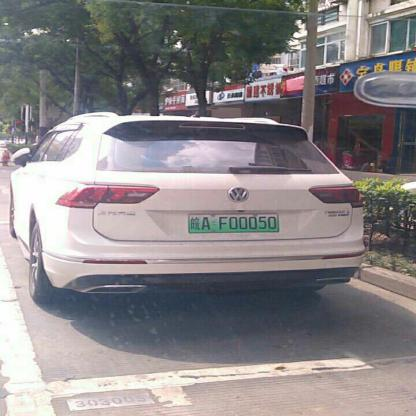lp: (188, 214, 279, 232)
